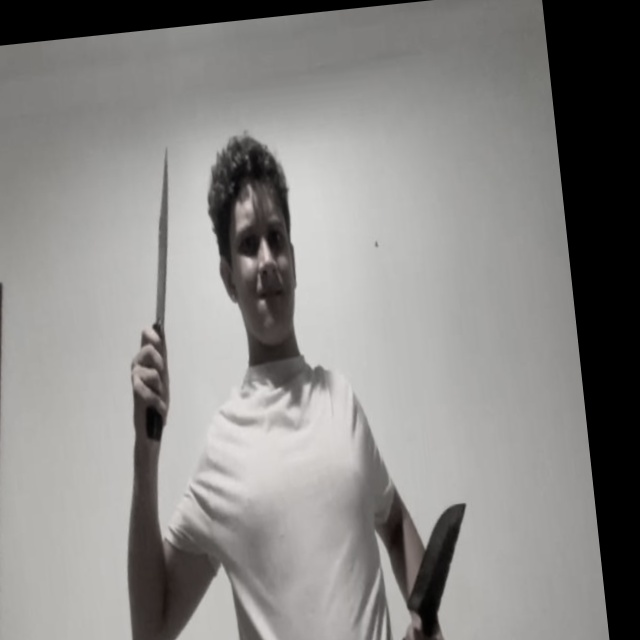Sharp-Object: (137, 150, 187, 327), (397, 501, 478, 609)
